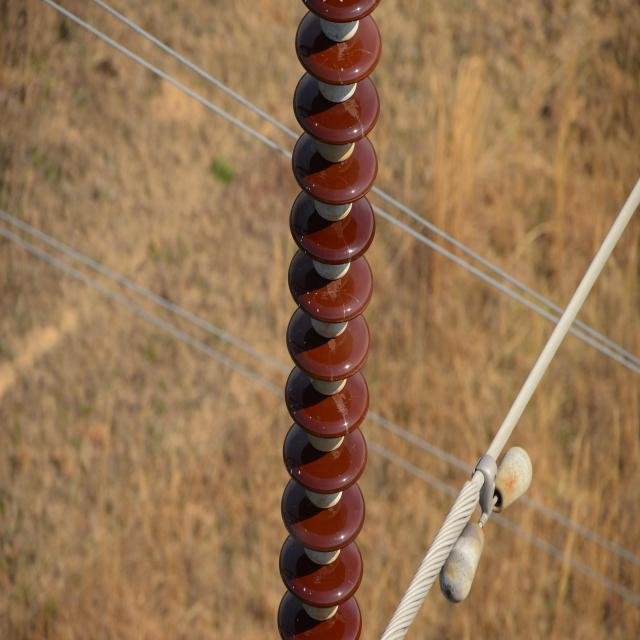insulator: (275, 2, 381, 640)
